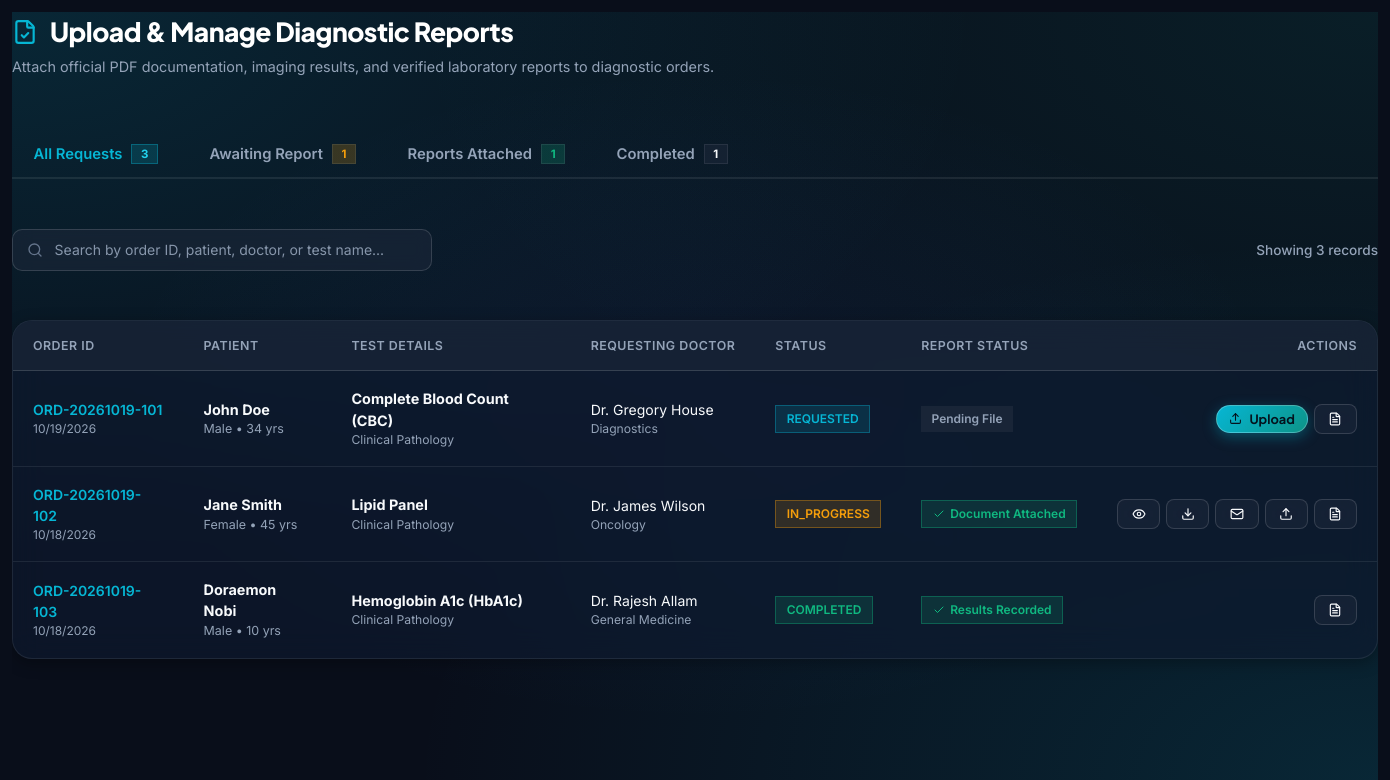
Scenario: CareFlow HMS — Lab Staff Dashboard Suite › LabStaffReportsPage excludes completed tests without report file from Awaiting Report and hides Upload button
This screenshot has width=1390, height=780.
Expected: the text "ORD-20261019-103" is shown, top-left (33, 582), bottom-right (141, 620)
// Click on "Awaiting Report" tab
Click the button "Awaiting Report 1" at [283, 155], box top-left (188, 131), bottom-right (378, 179)
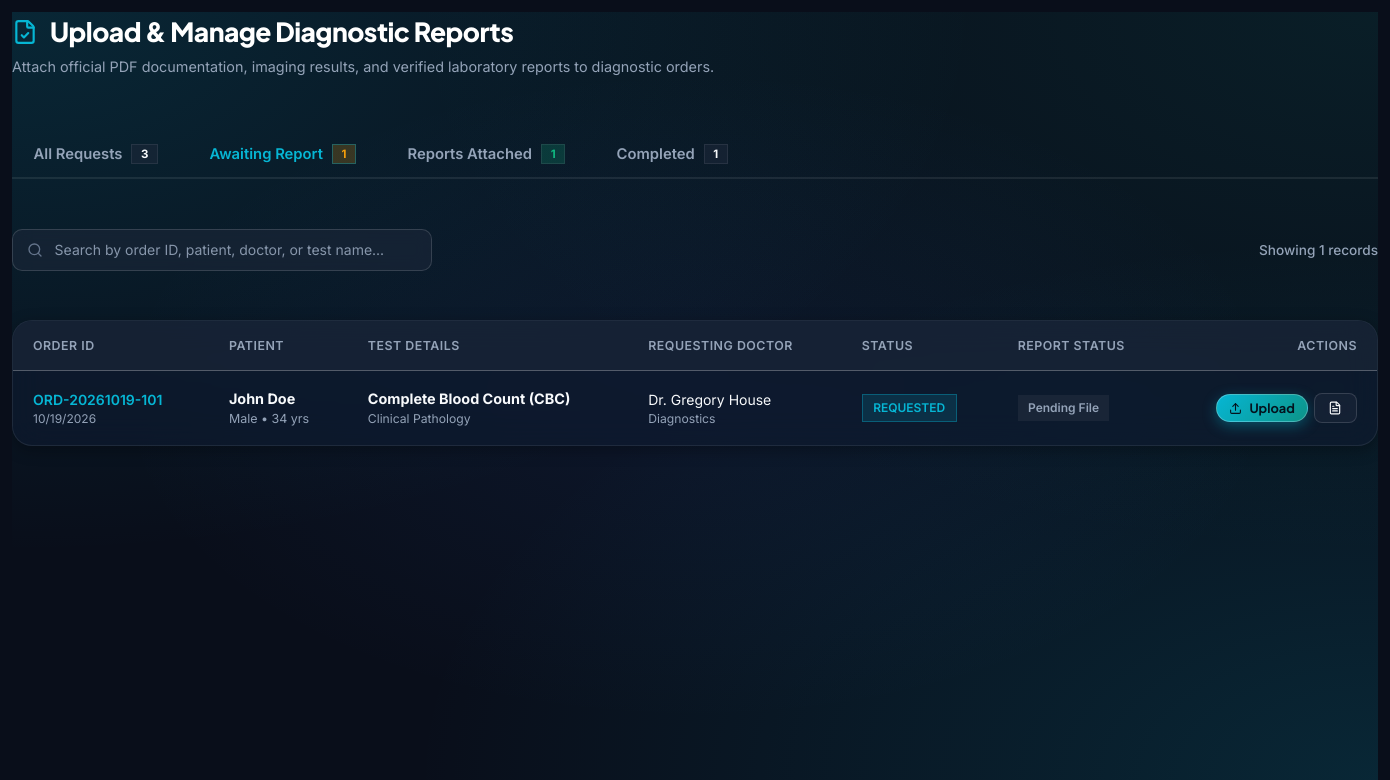
Expected: the text "ORD-20261019-101" is shown, top-left (33, 391), bottom-right (162, 408)
Expected: the text "ORD-20261019-103" is gone
// Switch to Completed tab
Click the button "Completed 1" at [672, 155], box top-left (595, 131), bottom-right (750, 179)
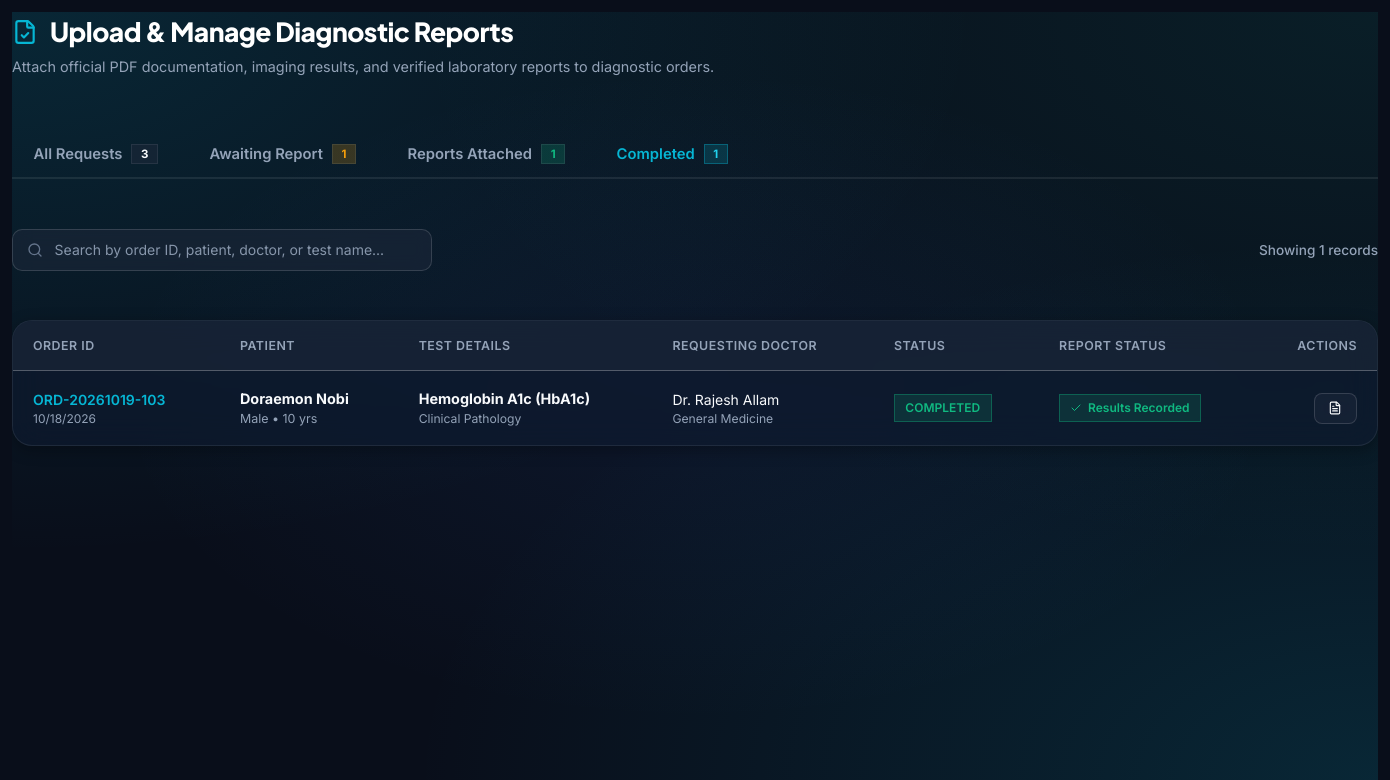
Expected: the text "ORD-20261019-103" does not show "Upload", top-left (13, 371), bottom-right (1377, 445)
Expected: the text "ORD-20261019-103" is shown, top-left (33, 391), bottom-right (165, 408)
Expected: the text "Results Recorded" is shown, top-left (1059, 394), bottom-right (1201, 422)
